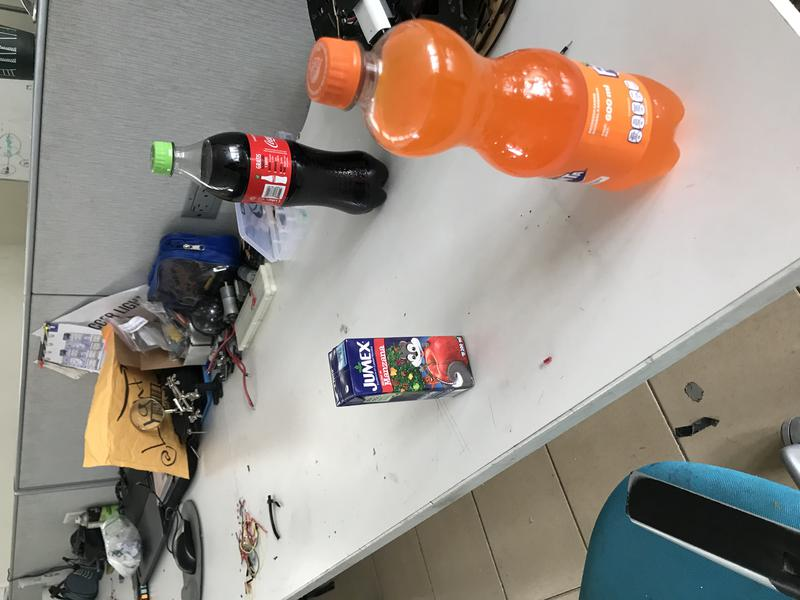coca_cola: (149, 131, 392, 216)
fanta: (304, 19, 684, 192)
jumex_cajita: (327, 337, 474, 406)
